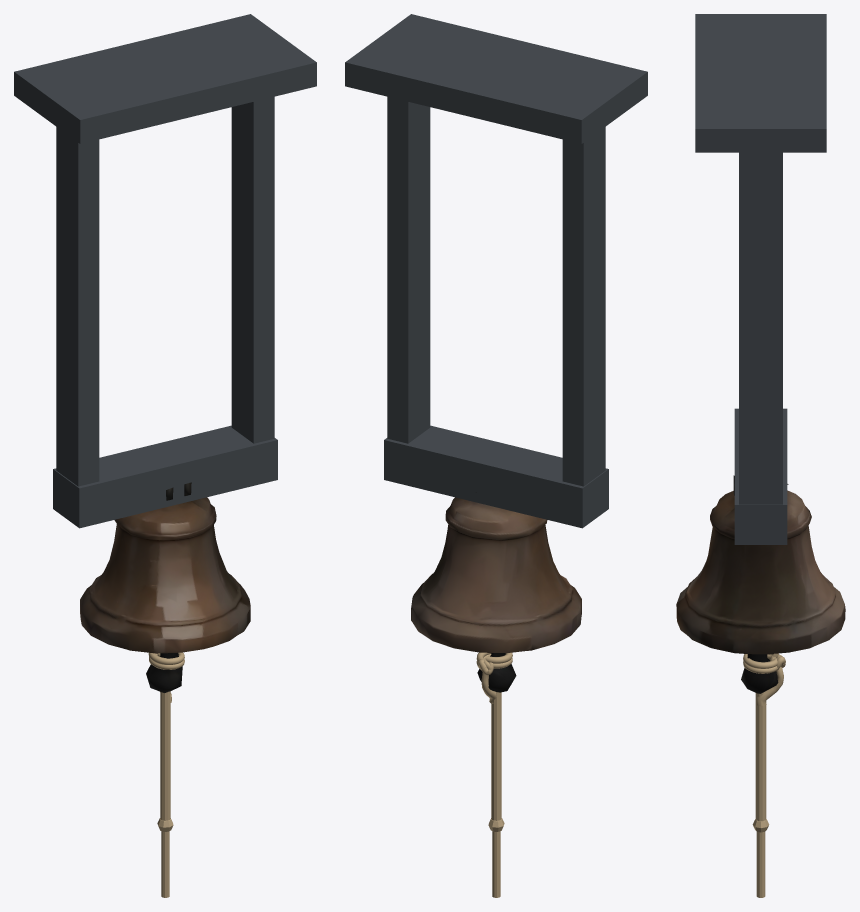
File: ceiling-bell.glb
3 views of the same model, side by side, from view 1: azimuth 30°, elevation 25°; view 2: azimuth 150°, elevation 25°; view 3: azimuth 270°, elevation 25° (orthographic).
Parts seen in each view (by area): view 1: Ceiling bell iron suspension, Signal bell bronze bowl clapper and rope, Bell pull rope; view 2: Ceiling bell iron suspension, Signal bell bronze bowl clapper and rope, Bell pull rope, Bell clapper rope hitch; view 3: Ceiling bell iron suspension, Signal bell bronze bowl clapper and rope, Bell pull rope, Bell clapper rope hitch, Bell rope tail.
Part boxes in pixels (bbox=[...]): Ceiling bell iron suspension: bbox=[14, 14, 316, 528]; Signal bell bronze bowl clapper and rope: bbox=[80, 482, 250, 692]; Bell pull rope: bbox=[160, 691, 170, 820]; Ceiling bell iron suspension: bbox=[345, 14, 647, 528]; Signal bell bronze bowl clapper and rope: bbox=[411, 492, 581, 692]; Bell pull rope: bbox=[491, 692, 501, 820]; Bell clapper rope hitch: bbox=[476, 652, 512, 703]; Ceiling bell iron suspension: bbox=[695, 14, 826, 544]; Signal bell bronze bowl clapper and rope: bbox=[676, 475, 845, 693]; Bell pull rope: bbox=[755, 692, 766, 821]; Bell clapper rope hitch: bbox=[743, 653, 783, 706]; Bell rope tail: bbox=[756, 832, 765, 897].
Bounding box in the file's own units: 0.62 × 2.08 × 0.3856.
3 materials, 1 textured.
